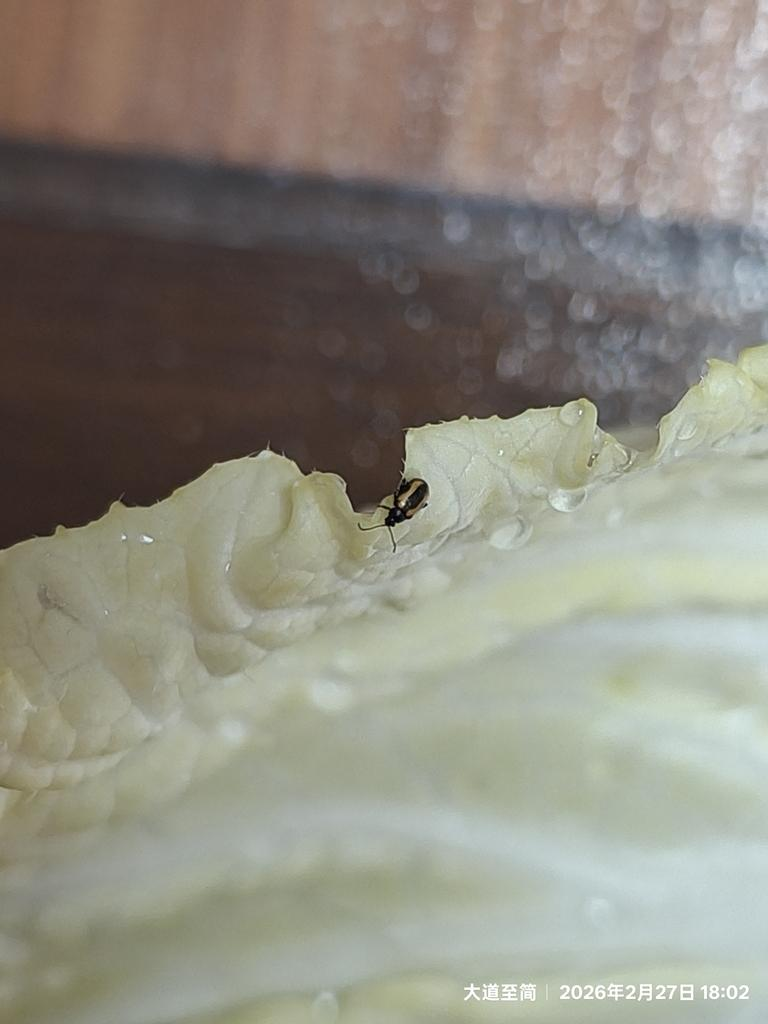flea_beetle: (346, 457, 443, 570)
